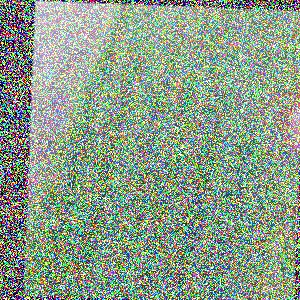Brown_Spot: (236, 48, 295, 145)
